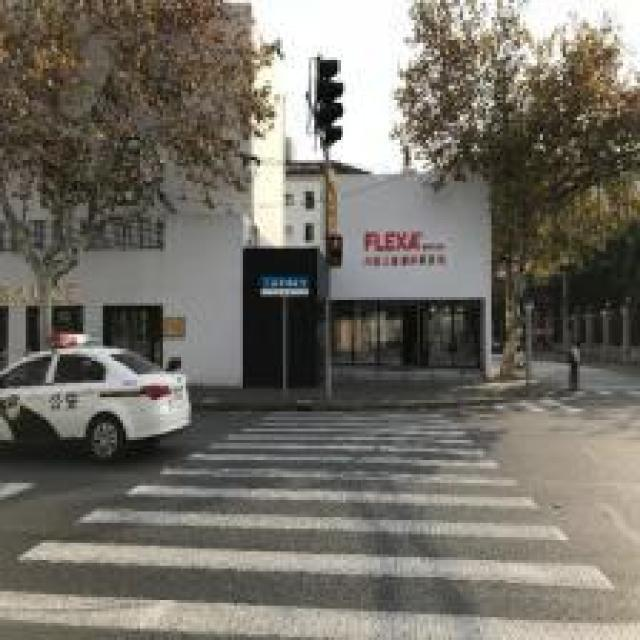crosswalk: (1, 398, 640, 637)
